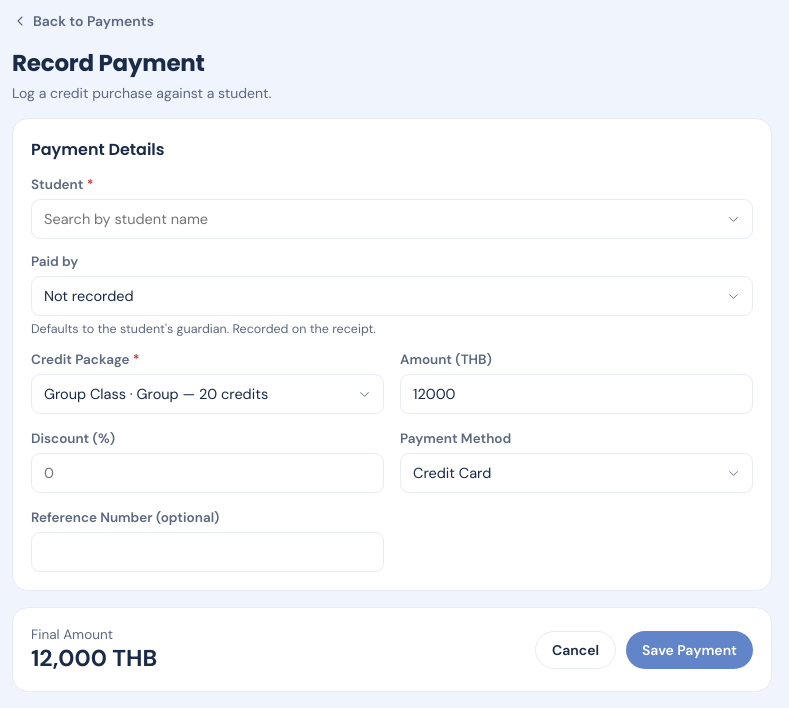
Scenario: picking a child › leaves the payer blank for a child linked to nobody
What coordinates should you click on to do the following:
click the dropdown labelled "Student *"
I would click on:
 (392, 219)
Its box is [31,199,753,239].
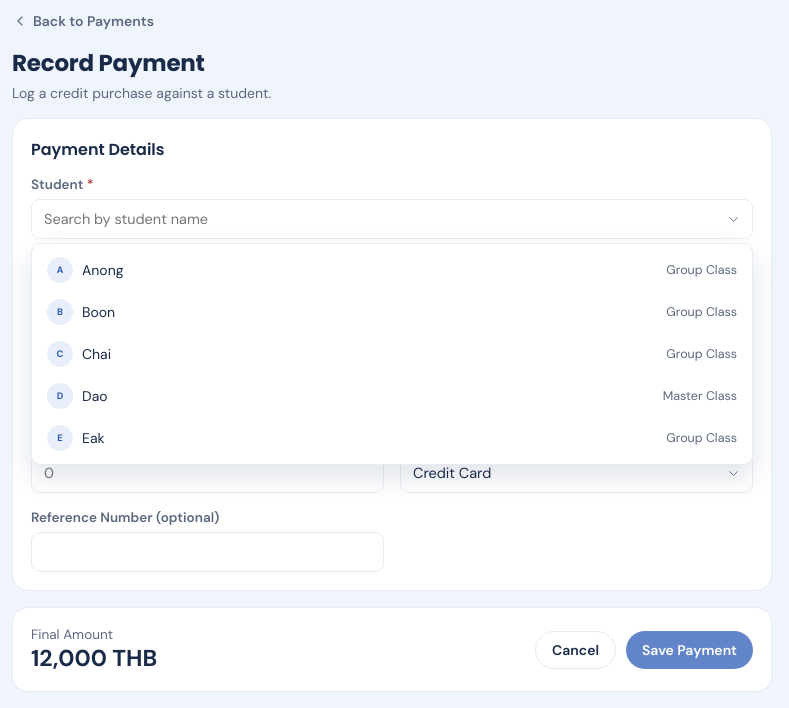
What coordinates should you click on to do the following:
click the button "E Eak Group Class"
I would click on:
 (702, 438)
Its box is [37,417,747,459].
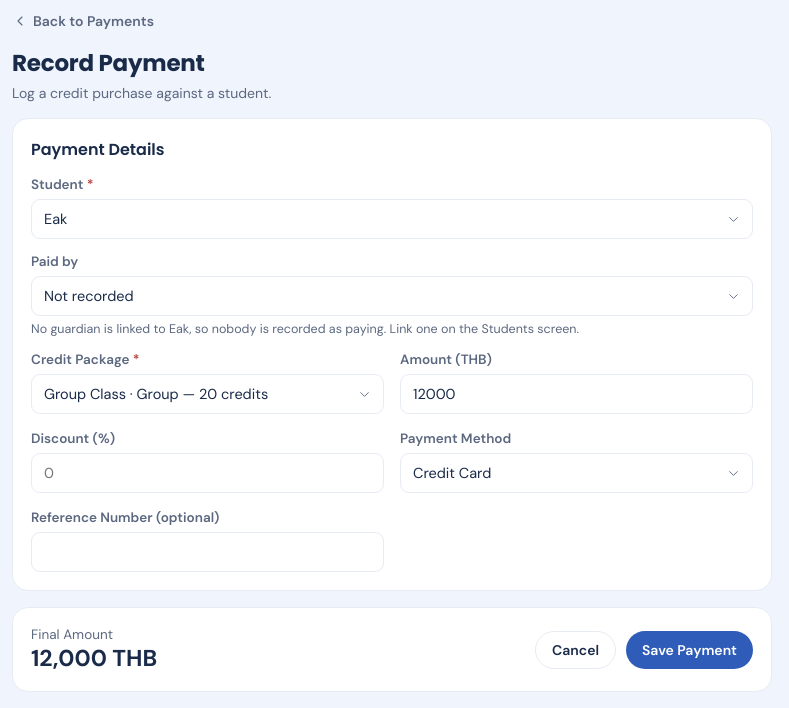
Expected: the dropdown labelled "Paid by" shows "Not recorded", [31,276,753,316]
Now the dropdown labelled "Student *" holds "Eak", box [31,199,753,239]
Now the text "No guardian is linked to Eak" is shown, box [31,321,579,337]
